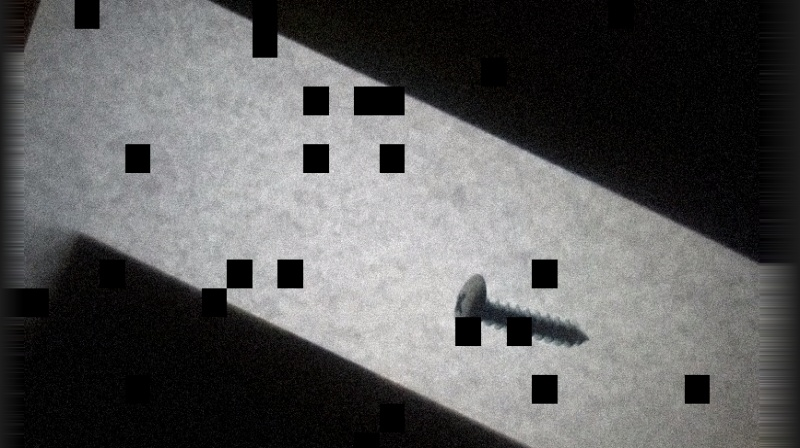S003: (450, 269, 593, 351)
